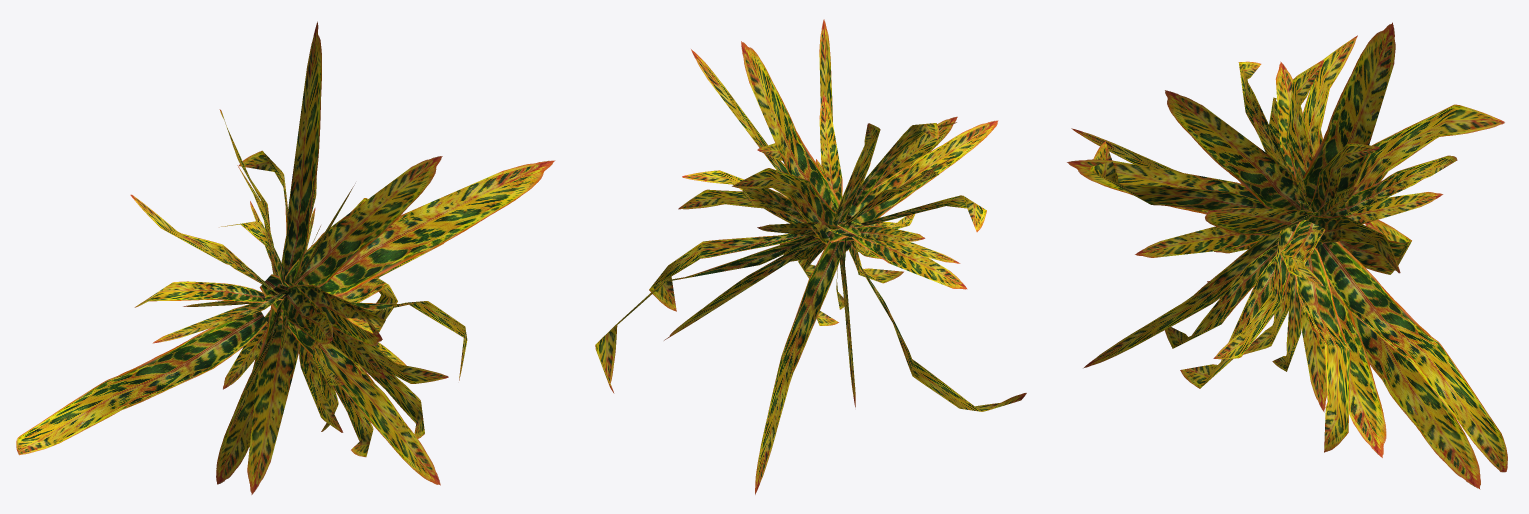
The model's file is AirSnake1.fbx.
3 views of the same model, side by side, from view 1: azimuth 30°, elevation 25°; view 2: azimuth 150°, elevation 25°; view 3: azimuth 270°, elevation 25° (orthographic). The views are drawn at different scales.
Visible parts, largest first — view 1: Snakeleaf2.009; view 2: Snakeleaf2.009; view 3: Snakeleaf2.009.
Part boxes in pixels (x1,y1,x2,y2): Snakeleaf2.009: [16, 21, 555, 494]; Snakeleaf2.009: [595, 19, 1026, 494]; Snakeleaf2.009: [1067, 22, 1507, 489].
Size of the model in its own units: 1720 by 1743 by 1398.
